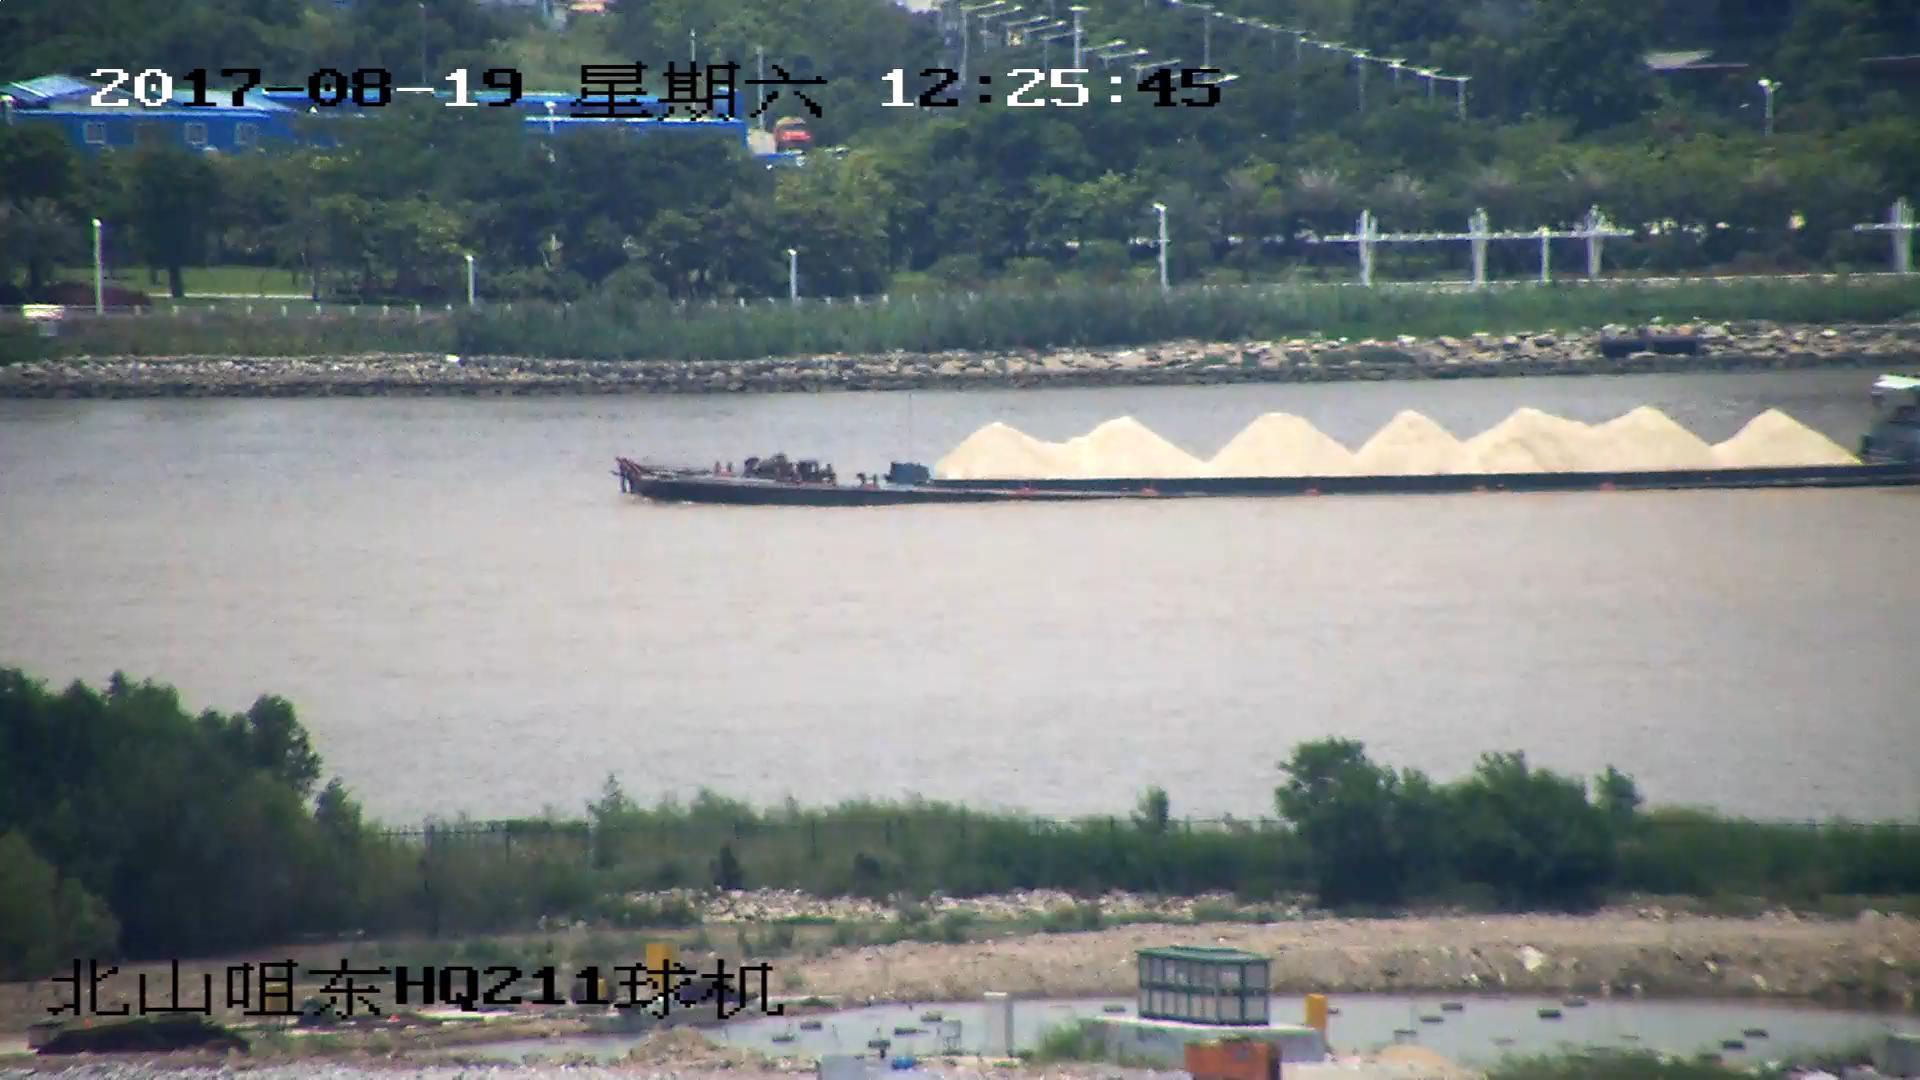Ship: (612, 378, 1920, 508)
